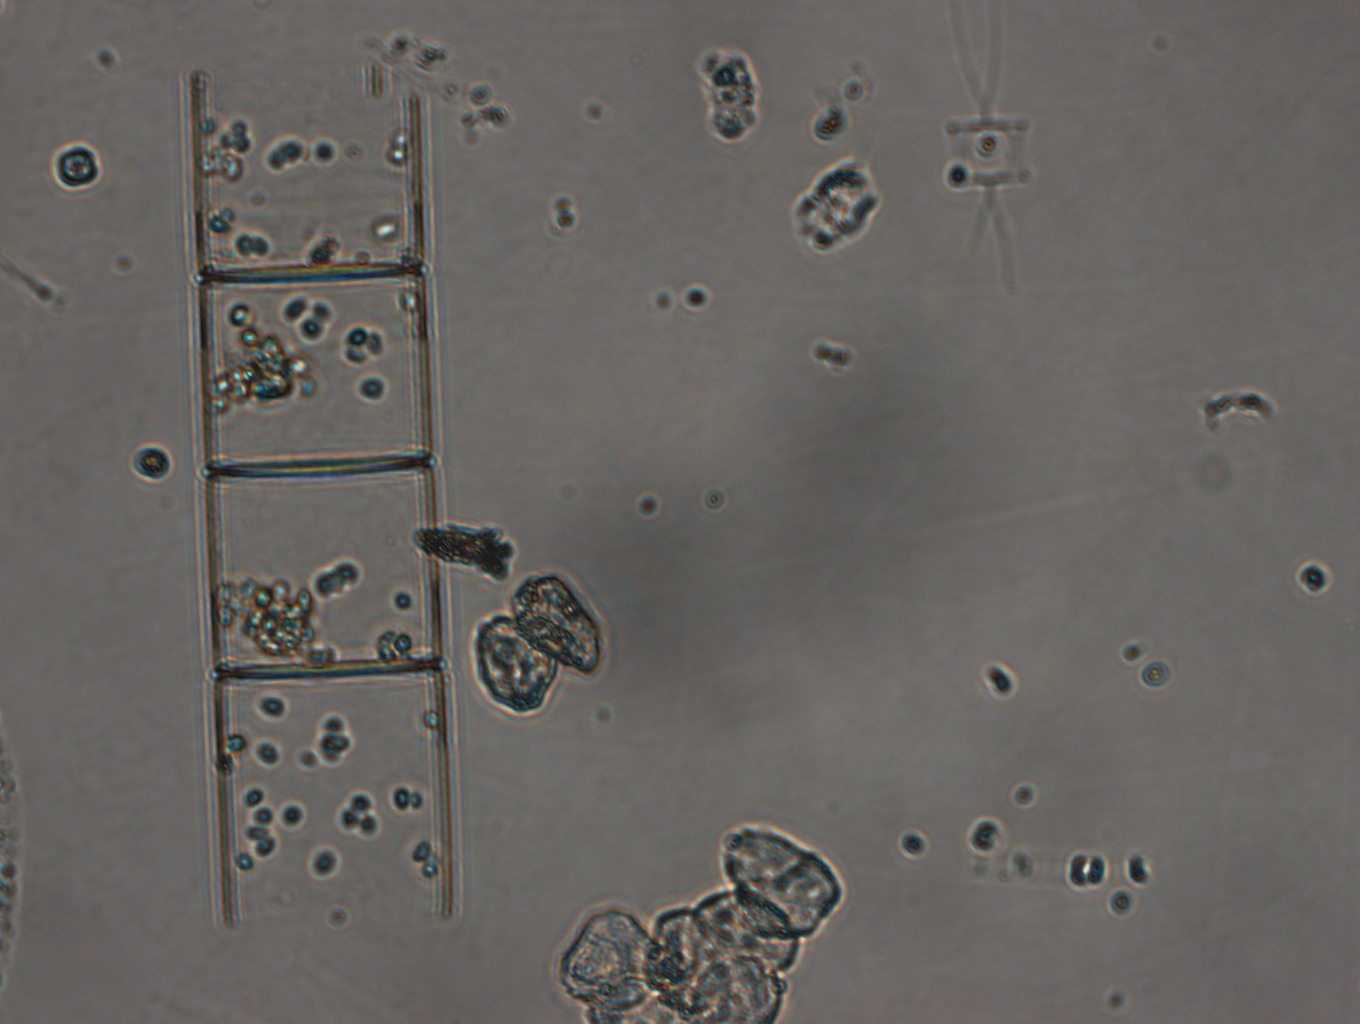chaetoceros: (933, 9, 1037, 294)
guinardia flaccida: (181, 68, 472, 925)
